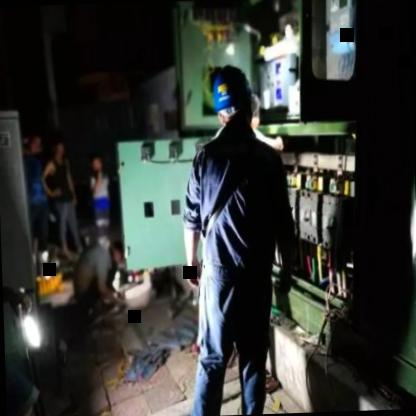helmet: (212, 62, 258, 126)
